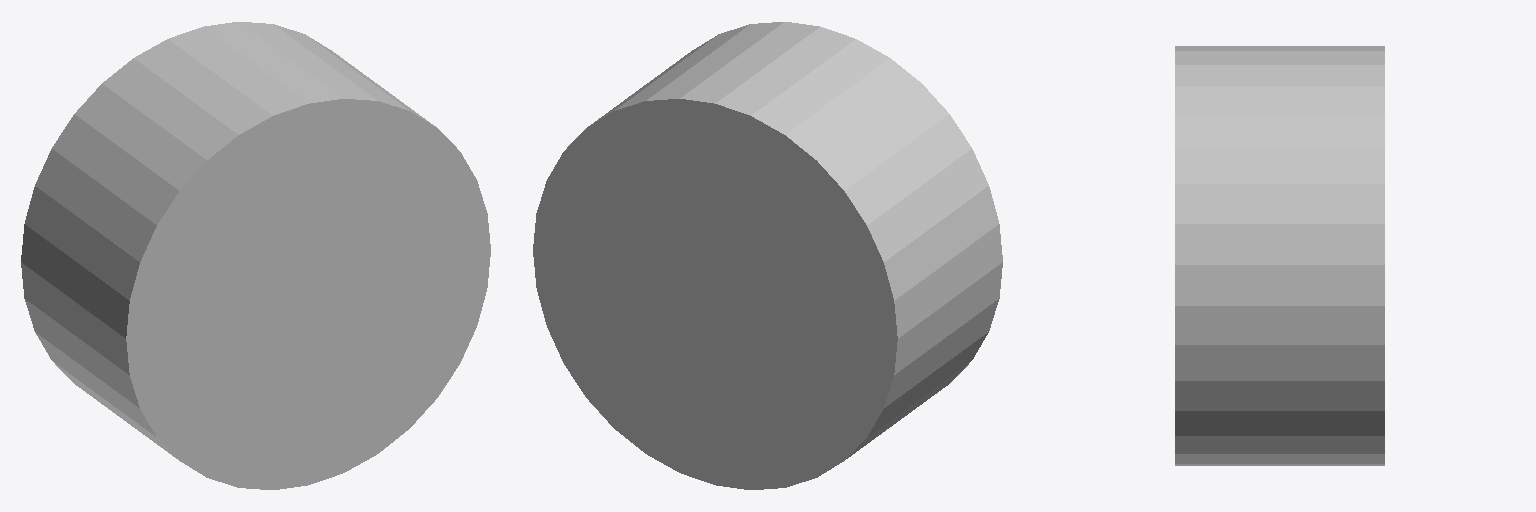
The model's file is builder-circle.obj.
The picture shows the model from 3 angles: view 1: azimuth 30°, elevation 25°; view 2: azimuth 150°, elevation 25°; view 3: azimuth 270°, elevation 25°; orthographic projection.
Visible parts, largest first — view 1: circle_Cylinder; view 2: circle_Cylinder; view 3: circle_Cylinder.
Boxes of the visible parts, box(x1,y1,x2,y2) form: circle_Cylinder: box(21, 22, 490, 489); circle_Cylinder: box(533, 22, 1002, 489); circle_Cylinder: box(1175, 46, 1384, 465).
Size of the model in its own units: 4 by 4 by 2.